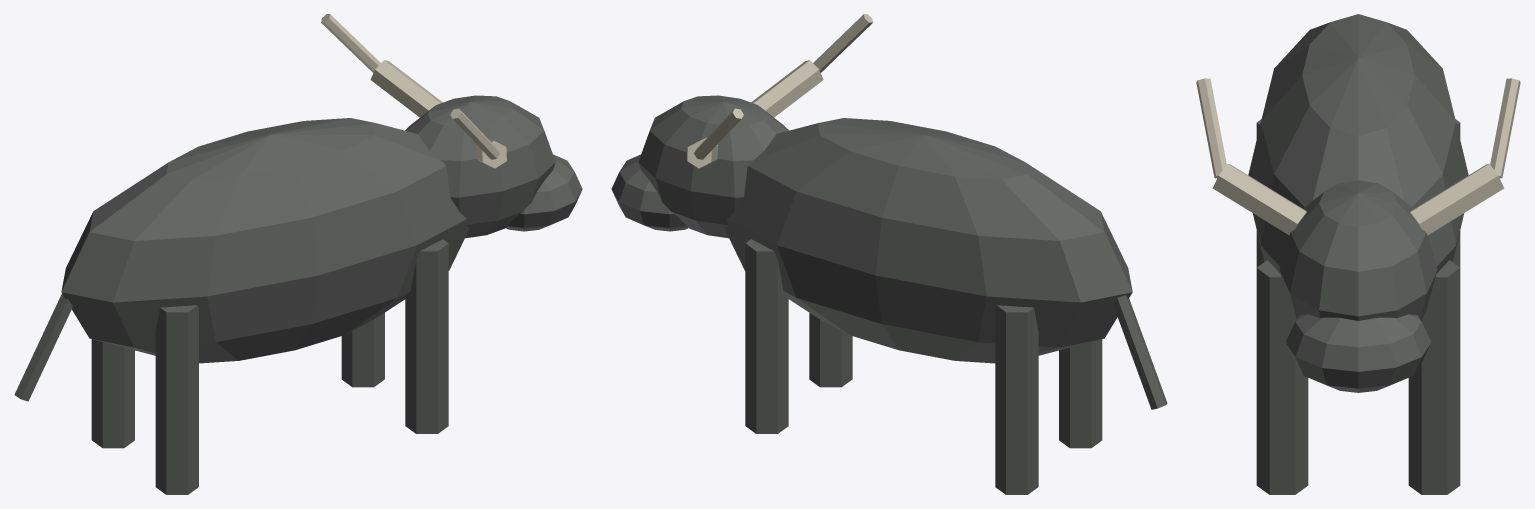
Rendered from buffalo-normal.glb.
3 views of the same model, side by side, from view 1: azimuth 30°, elevation 25°; view 2: azimuth 150°, elevation 25°; view 3: azimuth 270°, elevation 25° (orthographic). The views are drawn at different scales.
Parts seen in each view (by area): view 1: buffalo; view 2: buffalo; view 3: buffalo.
Part boxes in pixels (x1,y1,x2,y2): buffalo: [14, 14, 582, 494]; buffalo: [611, 14, 1167, 494]; buffalo: [1196, 14, 1520, 494].
Bounding box in the file's own units: 2.5 × 1.48 × 1.07.
